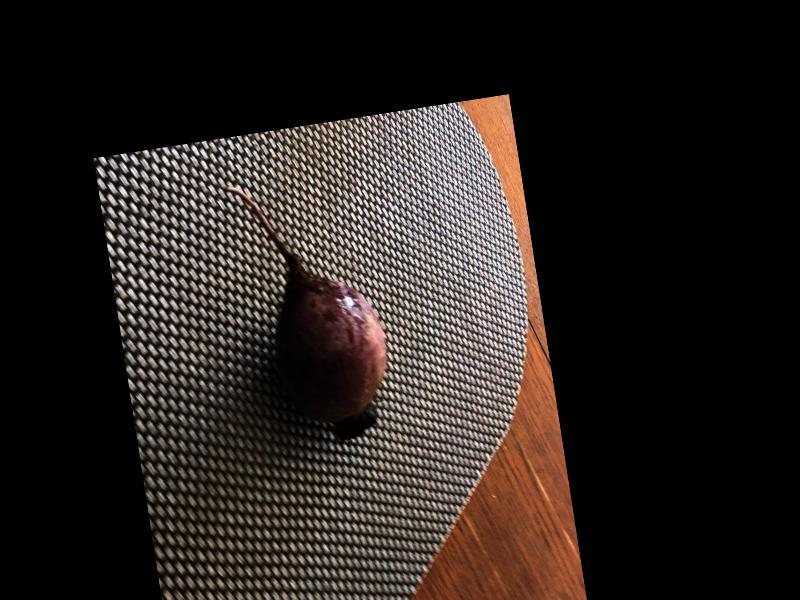Beet: (225, 166, 399, 453)
